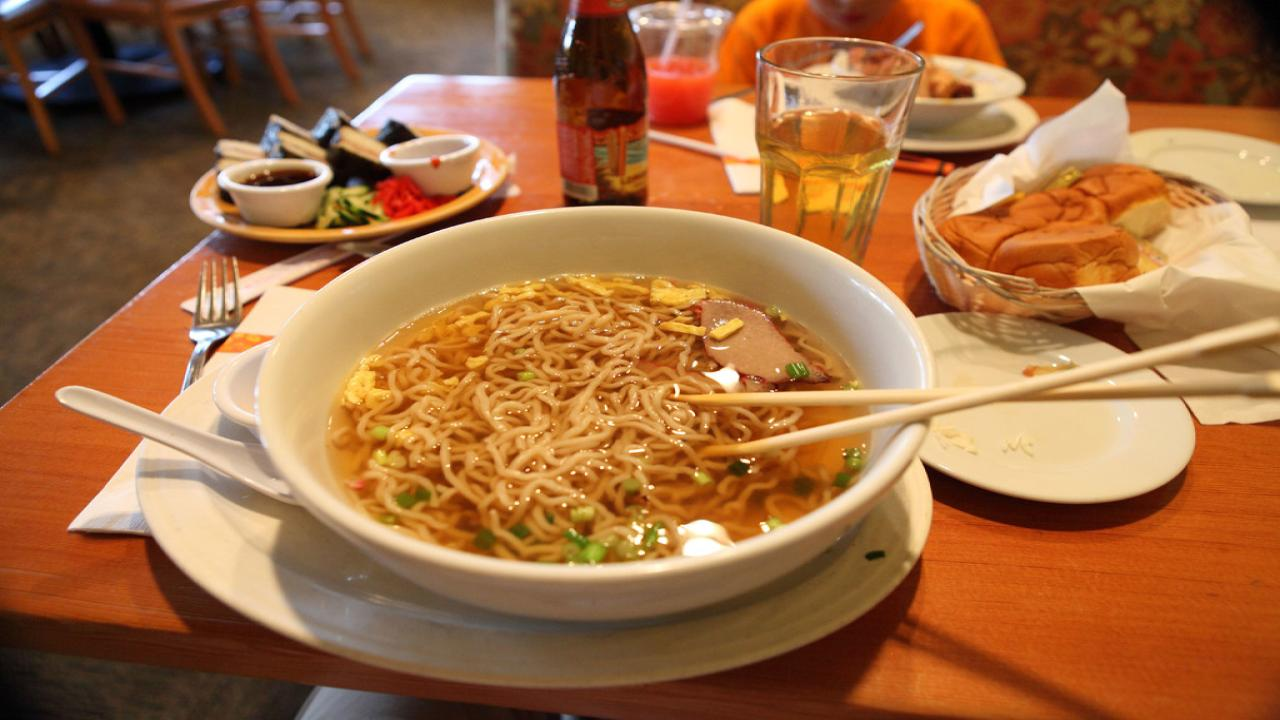chopstick: (674, 312, 1280, 456)
fork: (179, 254, 240, 396)
